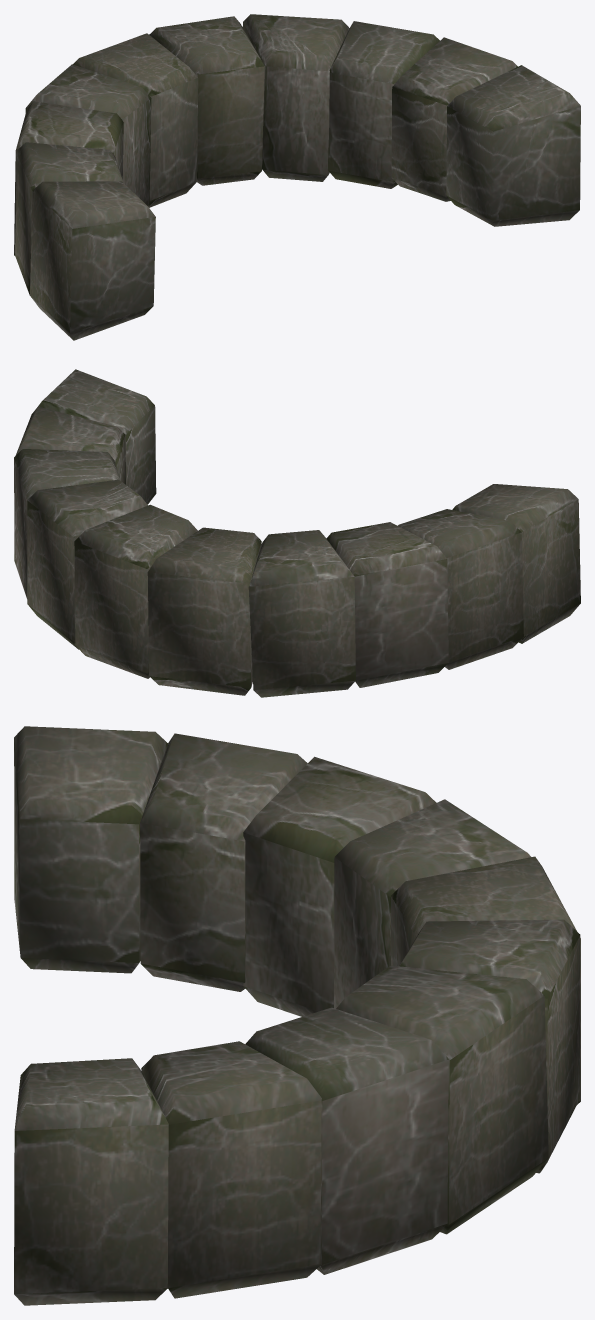
File: TI_Archway_Piece_01.fbx
3 views of the same model, one above another, from view 1: azimuth 30°, elevation 25°; view 2: azimuth 150°, elevation 25°; view 3: azimuth 270°, elevation 25° (orthographic). The views are drawn at different scales.
Parts seen in each view (by area): view 1: TI_Archway_Piece_01; view 2: TI_Archway_Piece_01; view 3: TI_Archway_Piece_01.
Part boxes in pixels (x1,y1,x2,y2): TI_Archway_Piece_01: (14,14,580,340); TI_Archway_Piece_01: (14,369,580,697); TI_Archway_Piece_01: (14,726,580,1305).
Size of the model in its own units: 2.62 by 0.6525 by 1.59.
